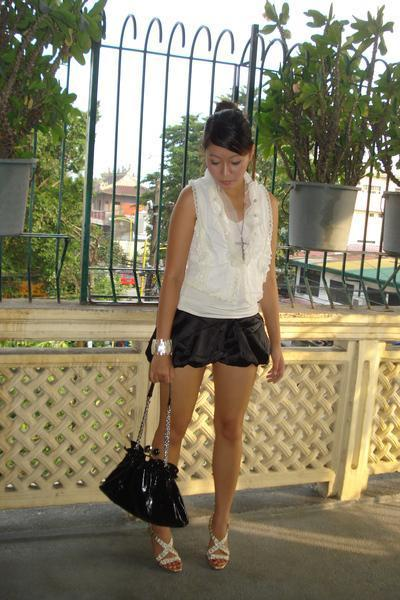bag: (99, 440, 188, 527)
shirt: (177, 193, 284, 318)
shoe: (156, 533, 229, 563)
shorts: (170, 308, 271, 369)
